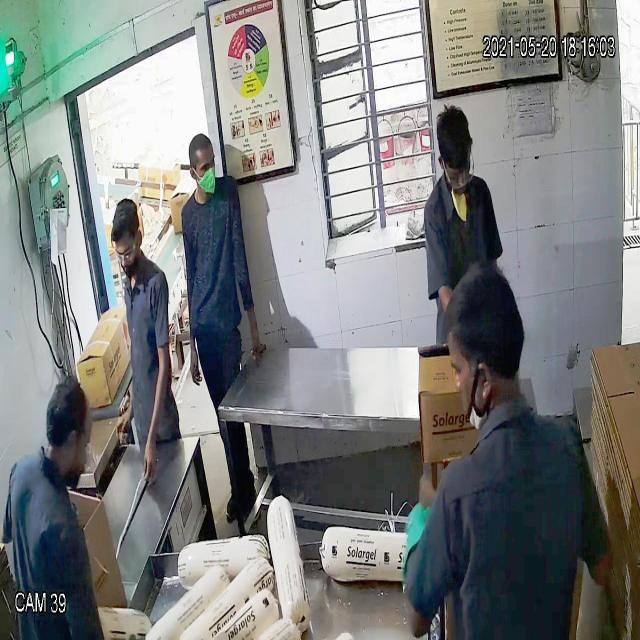glasses: (426, 143, 484, 194), (111, 230, 143, 270)
